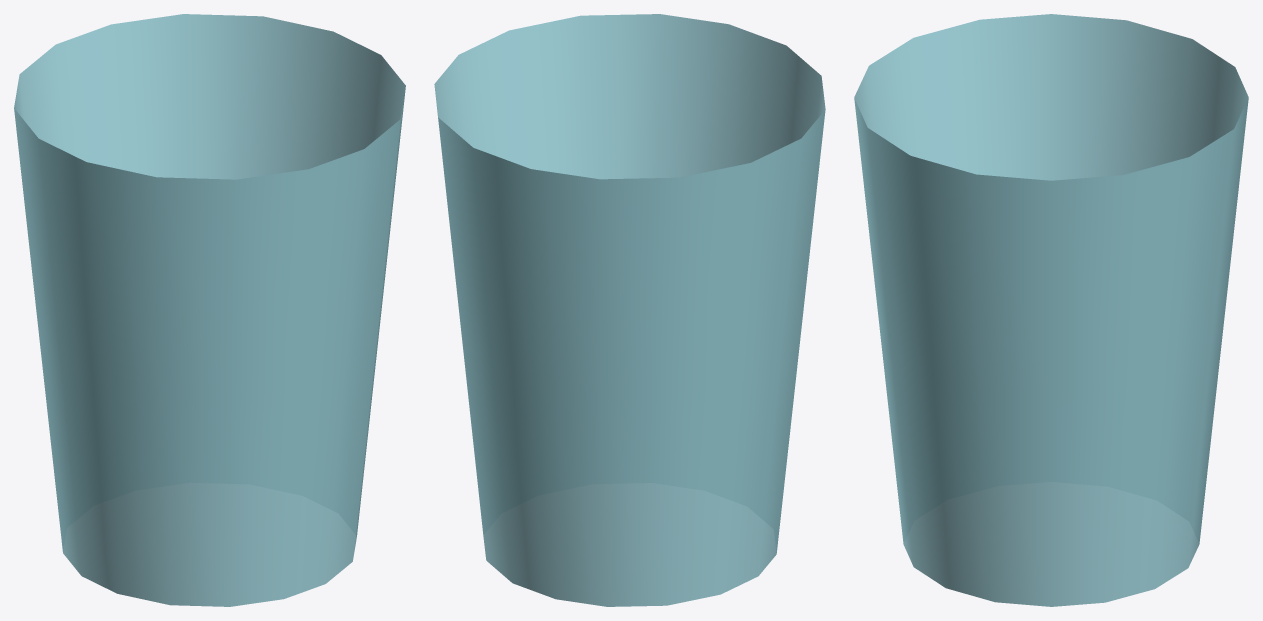
Rendered from bicchiere.fbx.
3 renders of one model, left to right at view 1: azimuth 30°, elevation 25°; view 2: azimuth 150°, elevation 25°; view 3: azimuth 270°, elevation 25°, orthographic.
Parts seen in each view (by area): view 1: Oggetto_1; view 2: Oggetto_1; view 3: Oggetto_1.
Boxes of the visible parts, x1,y1,x2,y2 form: Oggetto_1: [14, 14, 405, 606]; Oggetto_1: [434, 14, 825, 606]; Oggetto_1: [854, 14, 1248, 606].
Size of the model in its own units: 8 by 8 by 10.
